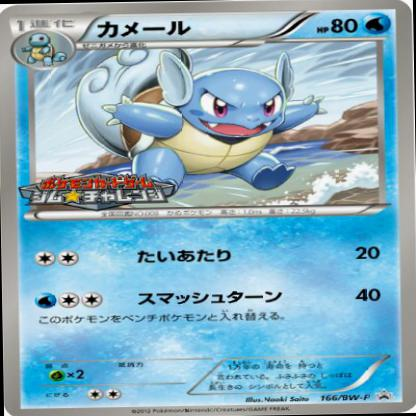Wartortle: (79, 48, 330, 190)
